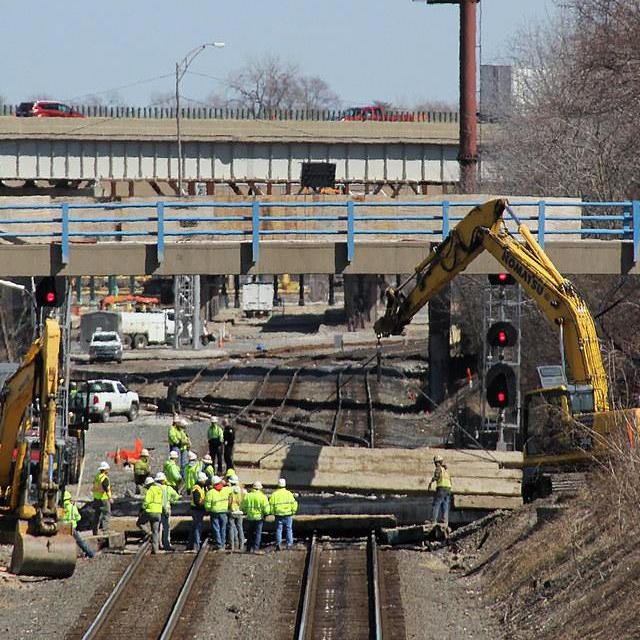Excavator: (377, 196, 640, 497), (0, 316, 81, 576)
Gloves: (139, 509, 144, 517), (428, 483, 432, 490)
Hardhat: (201, 454, 214, 463), (98, 461, 110, 470), (198, 471, 209, 480), (276, 477, 287, 486), (155, 472, 166, 481), (144, 476, 154, 485), (253, 481, 264, 489), (169, 450, 180, 458), (211, 476, 221, 484), (63, 489, 71, 499), (179, 419, 190, 426), (171, 414, 180, 422), (188, 453, 198, 460), (228, 474, 237, 481), (141, 448, 150, 455), (433, 455, 443, 461), (210, 416, 219, 422), (69, 381, 77, 386), (221, 418, 229, 423)
NO-Safety Vest: (224, 424, 235, 443)
Person: (62, 487, 104, 558), (137, 472, 164, 553), (241, 481, 270, 553), (156, 472, 183, 549), (205, 476, 231, 550), (272, 478, 298, 549), (426, 455, 452, 525), (93, 460, 116, 534), (187, 471, 208, 551), (226, 478, 246, 553), (124, 446, 151, 493), (208, 416, 223, 473), (222, 417, 237, 473), (164, 451, 181, 491), (184, 451, 200, 493), (168, 414, 181, 451), (179, 418, 192, 452), (200, 454, 216, 476), (68, 380, 78, 401), (225, 467, 236, 478)
SUV: (15, 100, 86, 117)
Safety Cone: (114, 445, 123, 464), (218, 331, 224, 348), (222, 320, 227, 339), (227, 329, 233, 341)
Safety Vest: (240, 490, 270, 518), (271, 489, 299, 515), (207, 484, 232, 512), (158, 483, 179, 513), (141, 485, 163, 512), (227, 485, 247, 514), (62, 500, 82, 527), (92, 472, 111, 500), (164, 459, 181, 485), (185, 461, 200, 489), (207, 424, 225, 445), (437, 465, 452, 489), (191, 482, 206, 506), (134, 457, 149, 475), (180, 428, 192, 449), (169, 426, 181, 444), (205, 464, 215, 474), (69, 388, 77, 399)
semi: (479, 61, 565, 120)
truck: (71, 377, 140, 421), (330, 106, 428, 122), (86, 331, 124, 362)
truck and trailer: (80, 308, 193, 350), (243, 283, 278, 317)
